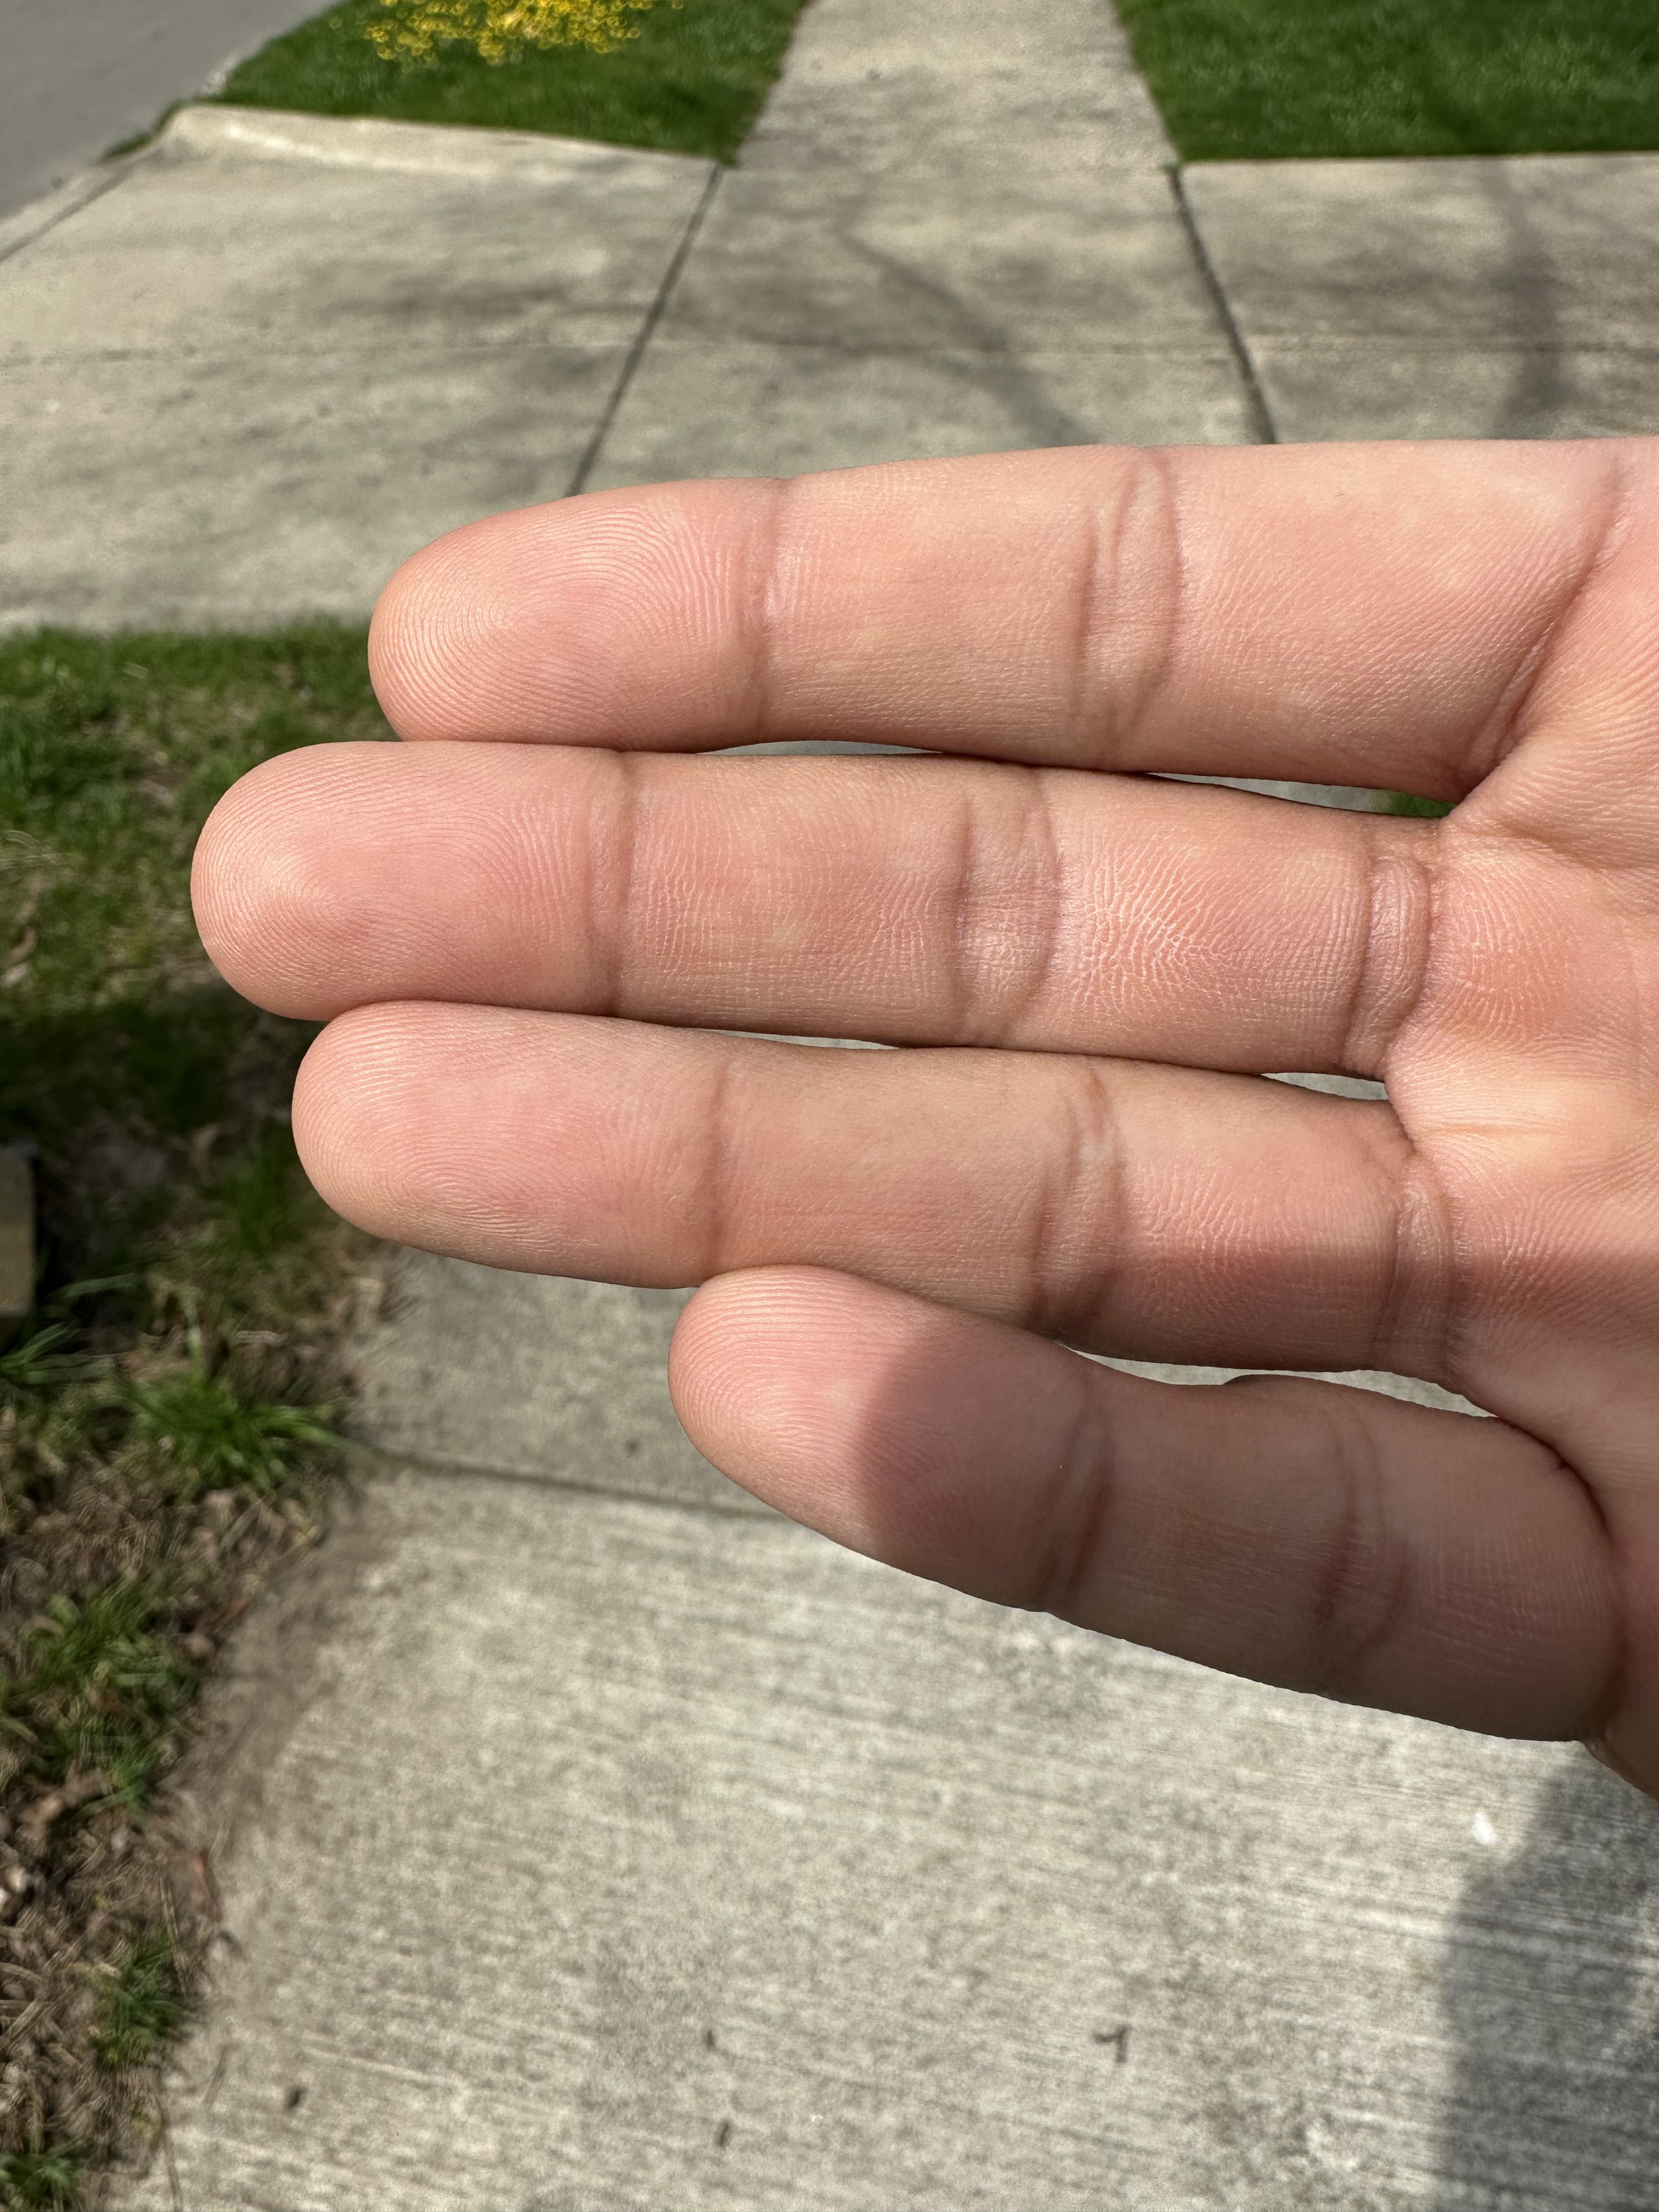finger: (652, 1263, 1087, 1554), (183, 738, 629, 1019), (272, 1005, 723, 1277), (357, 482, 782, 747)
